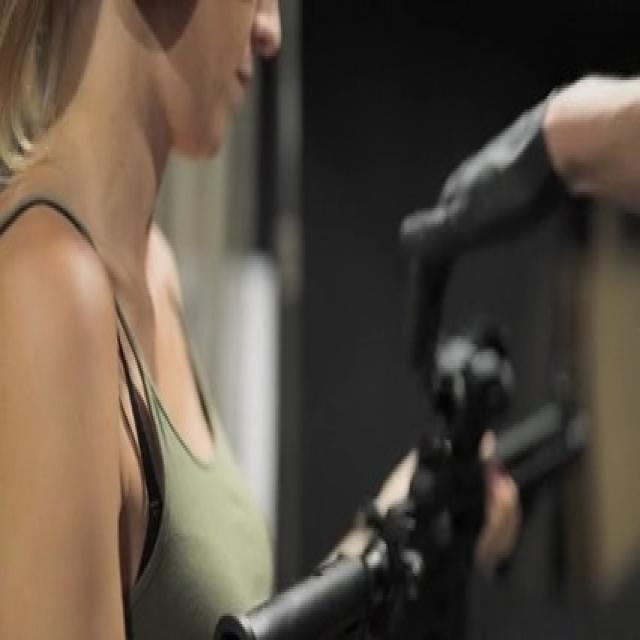Gun_Holder: (172, 333, 640, 640)
Person: (2, 0, 300, 635)
